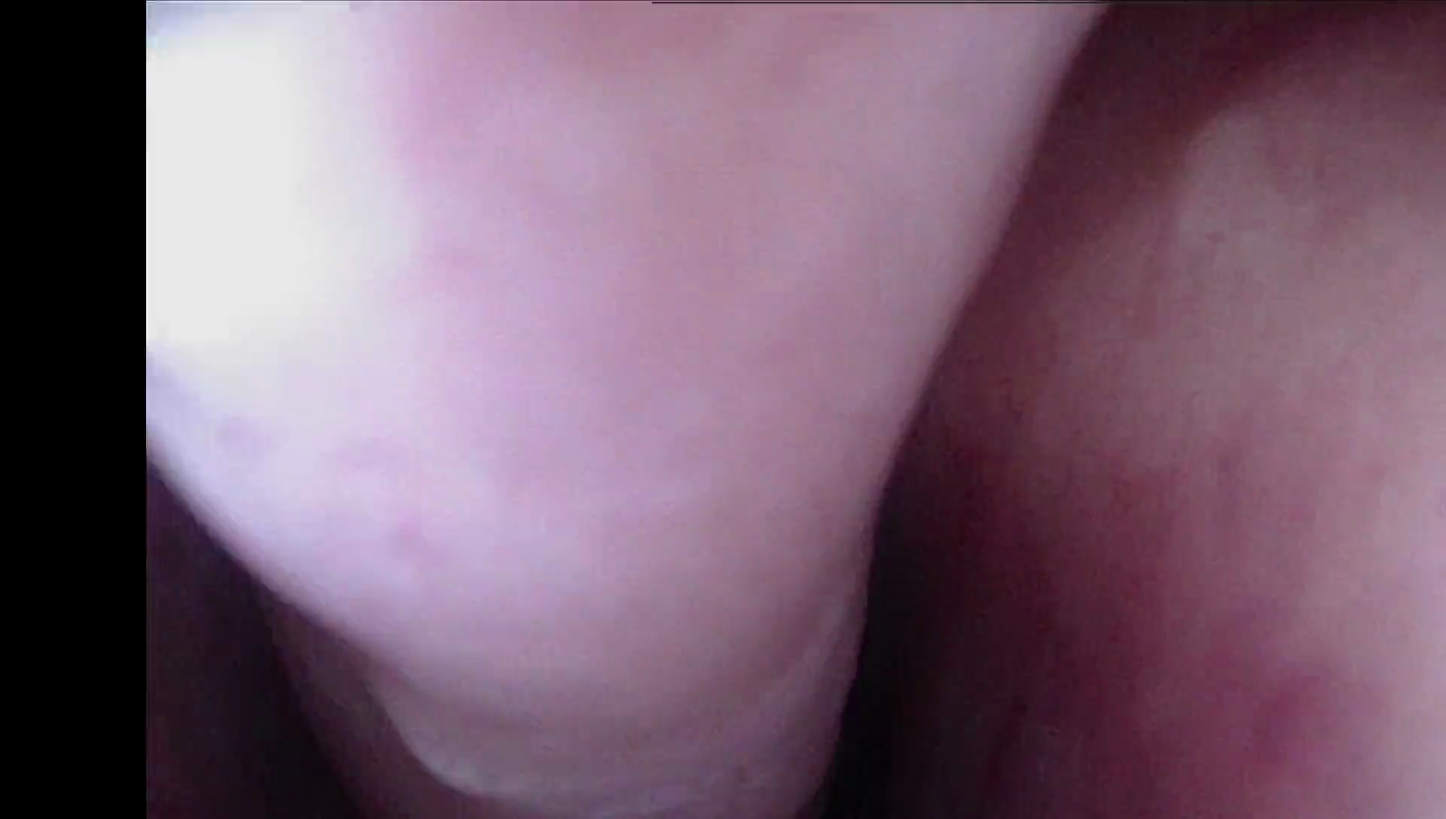close_wall: (157, 8, 786, 464)
next: (721, 376, 1065, 819), (154, 400, 478, 819)
